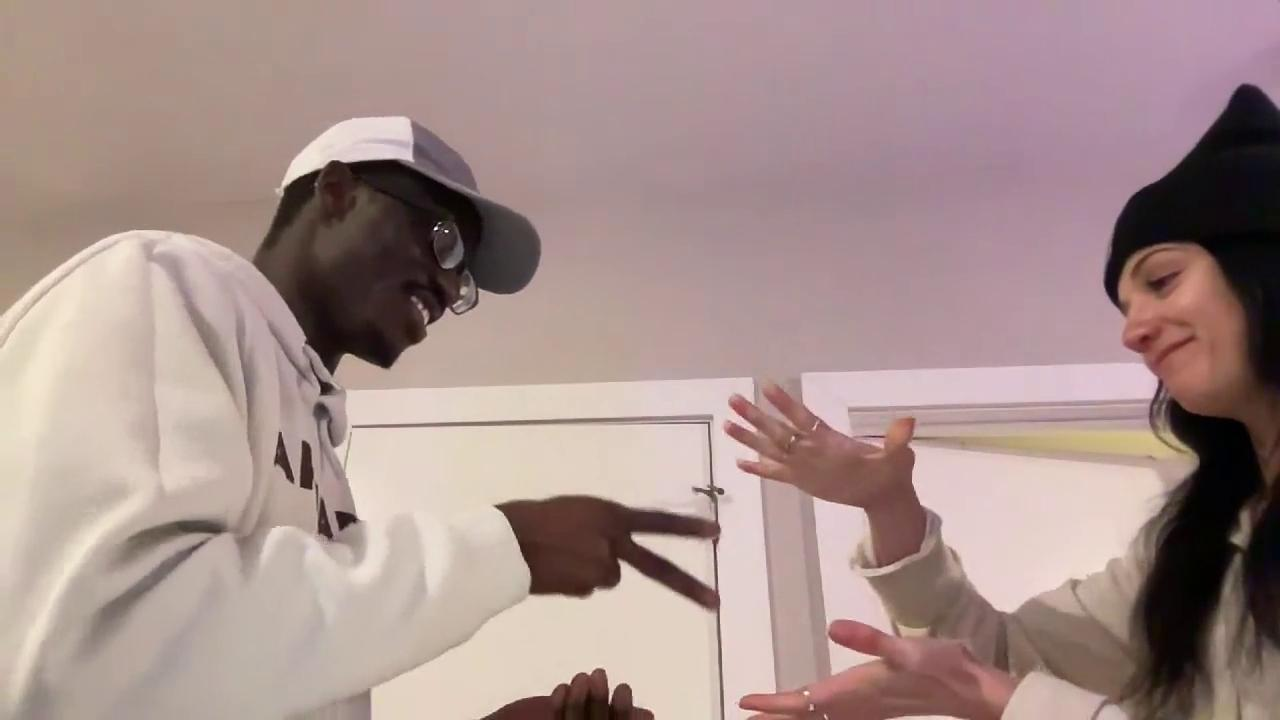Paper: (722, 380, 920, 525)
Scissors: (508, 492, 723, 623)
